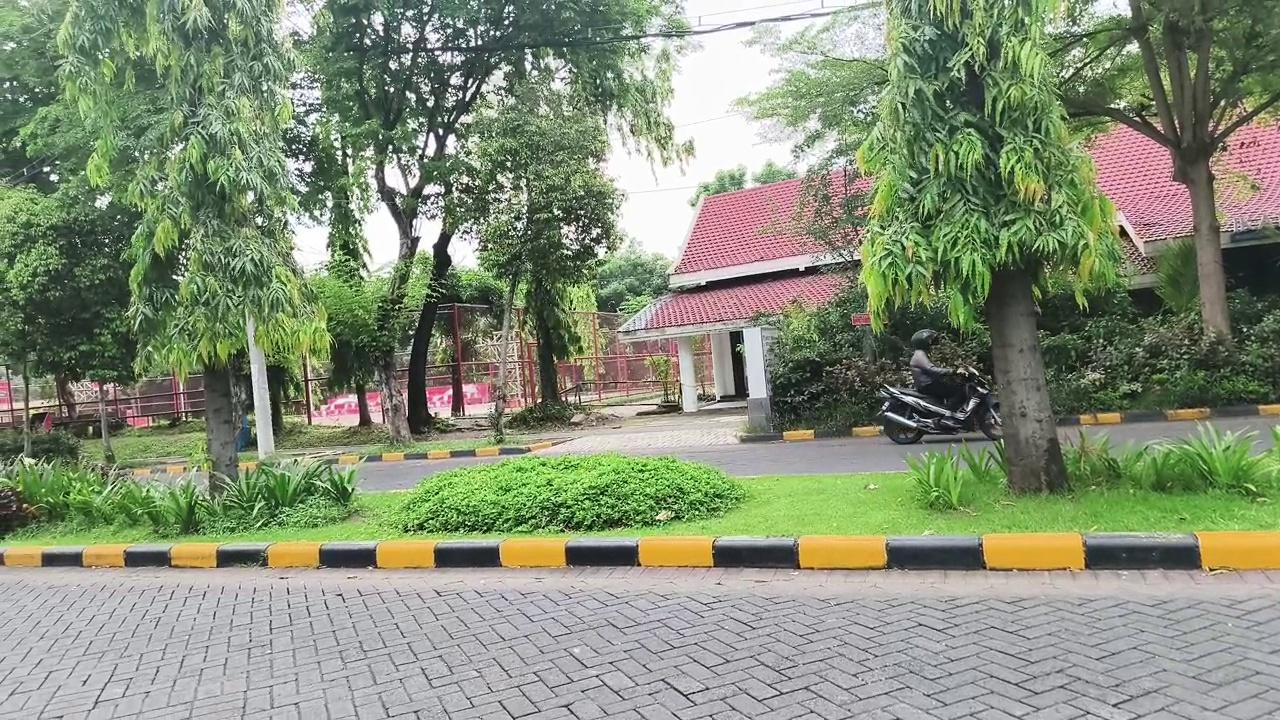Helmet: (909, 329, 965, 411)
Motor: (880, 368, 1002, 444)
